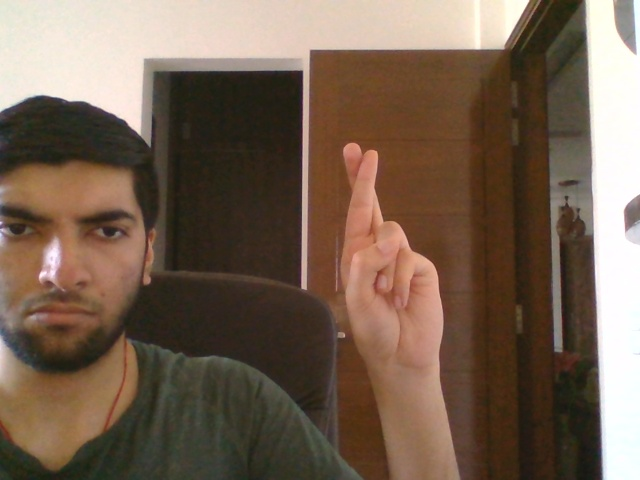LetterR: (338, 141, 449, 372)
